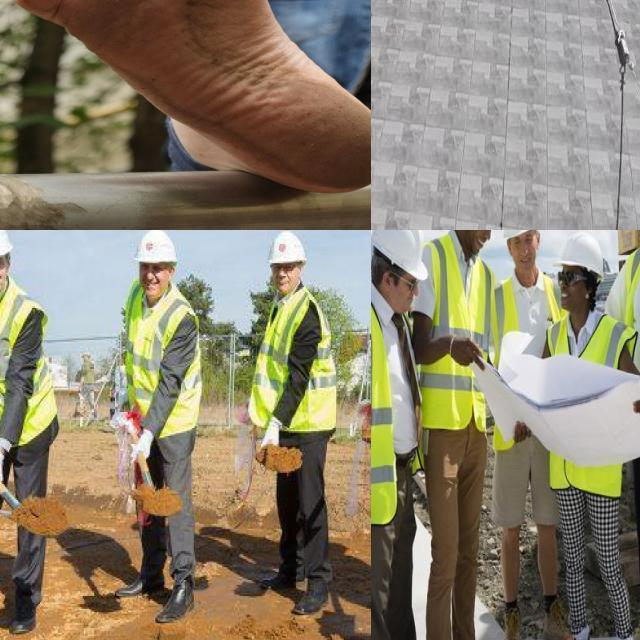Barefoots: (0, 0, 371, 193)
Harness: (605, 0, 633, 230)
No_Ear-Protection: (380, 267, 392, 292)
boots: (155, 574, 202, 624), (115, 558, 168, 600), (289, 572, 333, 618)
face_nomask: (377, 267, 423, 319), (136, 262, 176, 302), (554, 266, 582, 317), (505, 230, 540, 270), (269, 257, 301, 298), (456, 230, 490, 254), (0, 248, 12, 303)
glasses: (554, 266, 584, 293)
hand_glove: (133, 429, 158, 466), (258, 418, 284, 452), (0, 448, 9, 493)
hand_noglove: (448, 331, 486, 384)
head_helmet: (371, 230, 431, 279), (555, 230, 606, 280), (129, 232, 175, 267), (265, 231, 306, 263), (503, 230, 538, 240)
person: (109, 230, 205, 613), (421, 230, 507, 640), (549, 230, 633, 640), (250, 231, 338, 612), (495, 230, 560, 640), (371, 230, 429, 640), (0, 230, 48, 628)
shoes: (1, 588, 47, 638), (539, 594, 574, 640), (499, 605, 527, 640)
vest: (551, 306, 629, 504), (253, 289, 330, 439), (424, 242, 486, 428), (124, 289, 200, 439), (497, 272, 555, 449), (371, 306, 417, 522), (0, 285, 51, 444)
